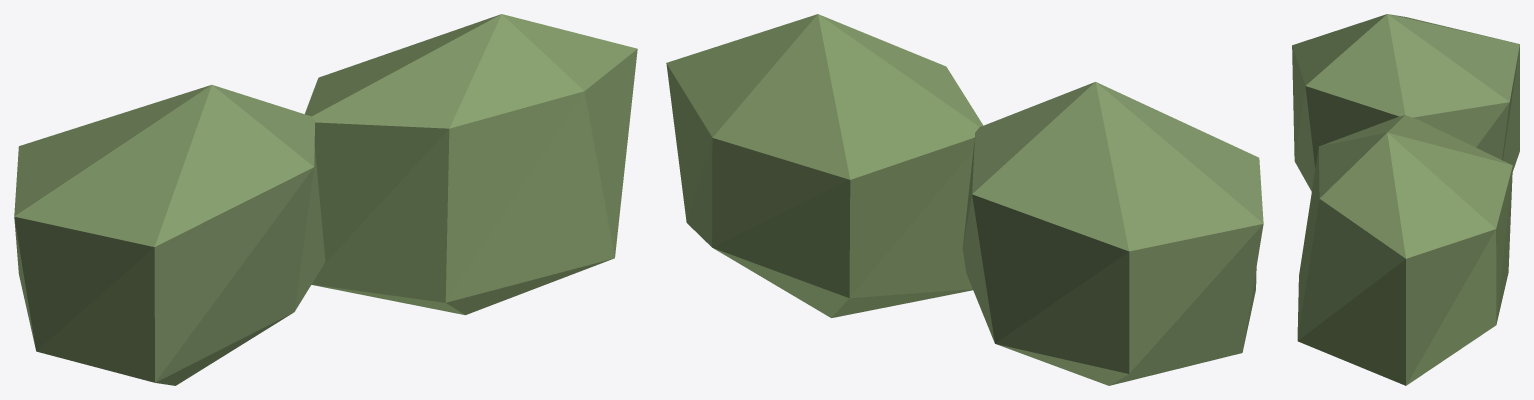
The picture shows the model from 3 angles, left to right: view 1: azimuth 30°, elevation 25°; view 2: azimuth 150°, elevation 25°; view 3: azimuth 270°, elevation 25°; orthographic projection. The views are drawn at different scales.
Size of the model in its own units: 3.23 by 1.5 by 1.22.
